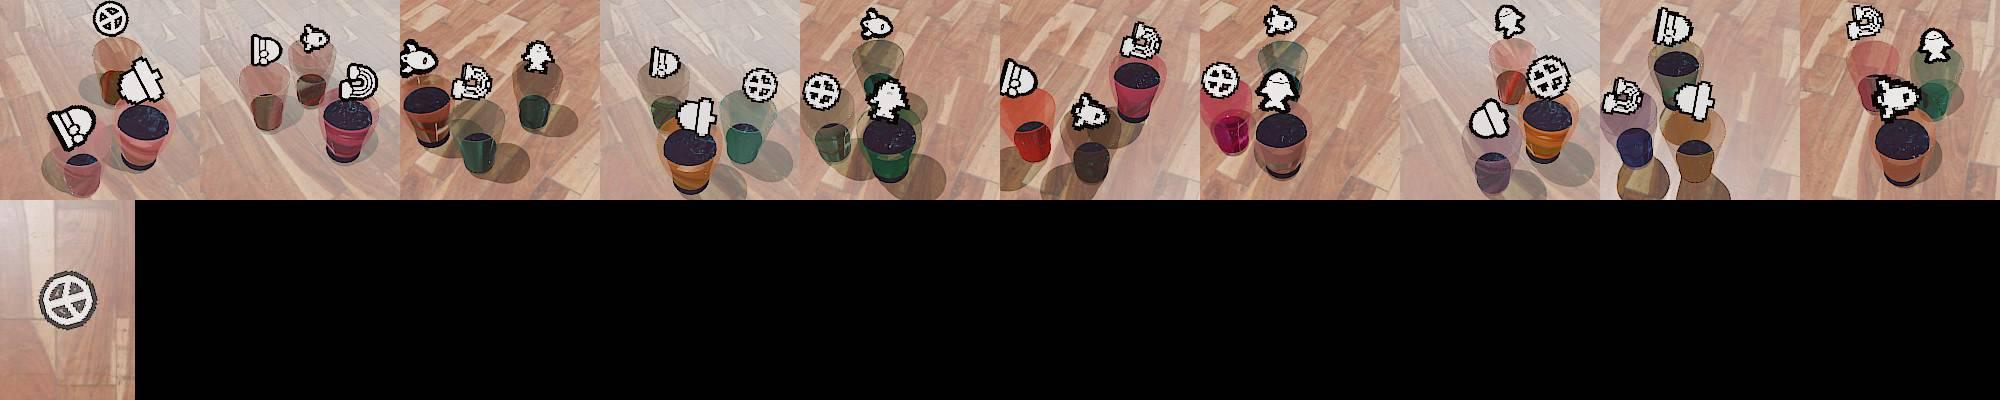icon: (36, 270, 97, 331), (1870, 74, 1921, 121), (46, 103, 97, 150), (117, 56, 165, 104), (1526, 54, 1573, 101), (864, 76, 909, 122), (1255, 68, 1300, 113), (1119, 19, 1162, 61), (1673, 79, 1716, 122), (1599, 75, 1644, 116), (1468, 96, 1510, 138), (675, 96, 717, 136), (802, 71, 842, 112), (1069, 90, 1110, 130), (999, 57, 1038, 98), (1653, 6, 1693, 47), (337, 62, 378, 102), (452, 62, 492, 101), (399, 38, 437, 78), (1916, 27, 1955, 65), (741, 66, 779, 104), (1847, 4, 1885, 41), (1202, 61, 1240, 98), (92, 1, 129, 38), (520, 39, 556, 74), (1494, 4, 1527, 39), (858, 6, 894, 39), (1263, 5, 1297, 38), (649, 45, 681, 79), (250, 33, 282, 66), (298, 24, 329, 54)
